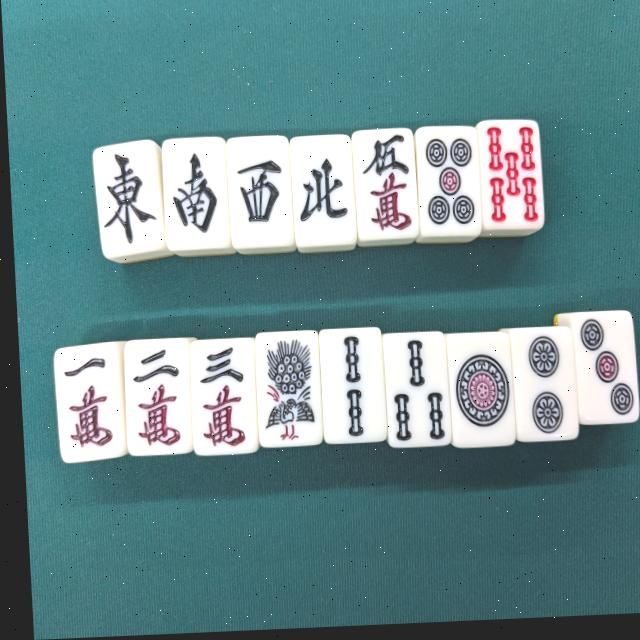1m: (48, 339, 125, 464)
1p: (440, 335, 509, 454)
1s: (249, 331, 316, 449)
2m: (117, 336, 189, 458)
2p: (505, 332, 574, 447)
2s: (313, 328, 382, 449)
3m: (184, 339, 256, 460)
3p: (550, 314, 634, 434)
3s: (378, 335, 445, 453)
5m: (349, 131, 415, 252)
5p: (410, 129, 477, 247)
D5s: (473, 123, 542, 243)
higashi: (89, 142, 162, 264)
kita: (287, 136, 353, 255)
minami: (158, 137, 227, 258)
nishi: (223, 137, 291, 257)
